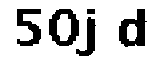0: (46, 9, 82, 47)
5: (11, 5, 45, 52)
d: (117, 6, 150, 51)
j: (79, 6, 102, 60)
